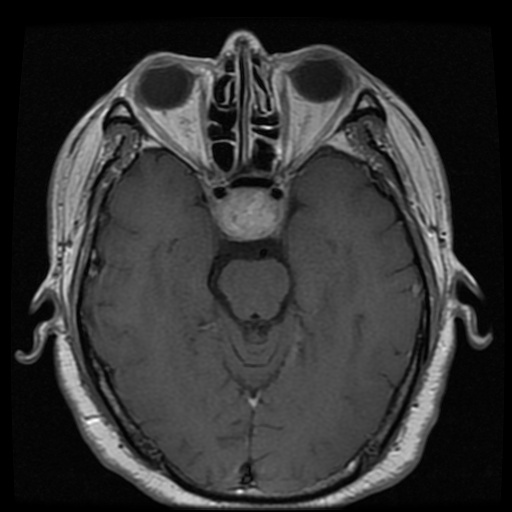pituitary: (215, 186, 280, 238)
